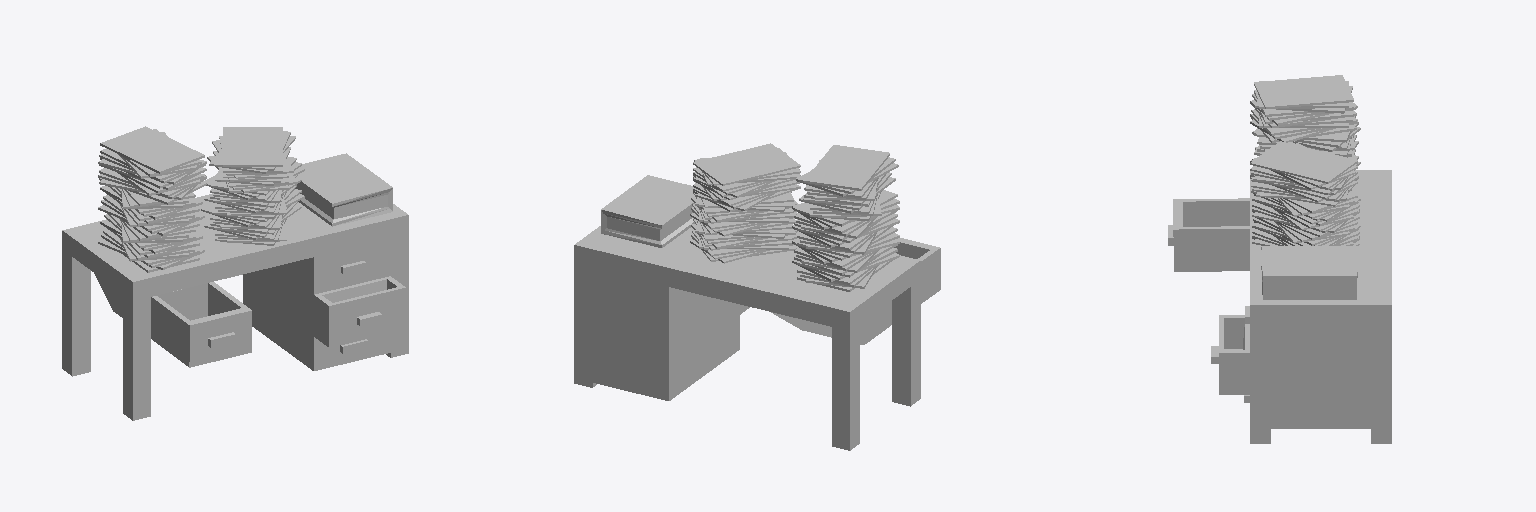
Rendered from Escritorio.obj.
3 views of the same model, side by side, from view 1: azimuth 30°, elevation 25°; view 2: azimuth 150°, elevation 25°; view 3: azimuth 270°, elevation 25° (orthographic).
Visible parts, largest first — view 1: pCube60; view 2: pCube60; view 3: pCube60.
Part boxes in pixels (x1,y1,x2,y2): pCube60: (62,126,408,420); pCube60: (574,143,940,450); pCube60: (1168,75,1391,443).
Bounding box in the file's own units: 2.83 × 2.36 × 1.99.